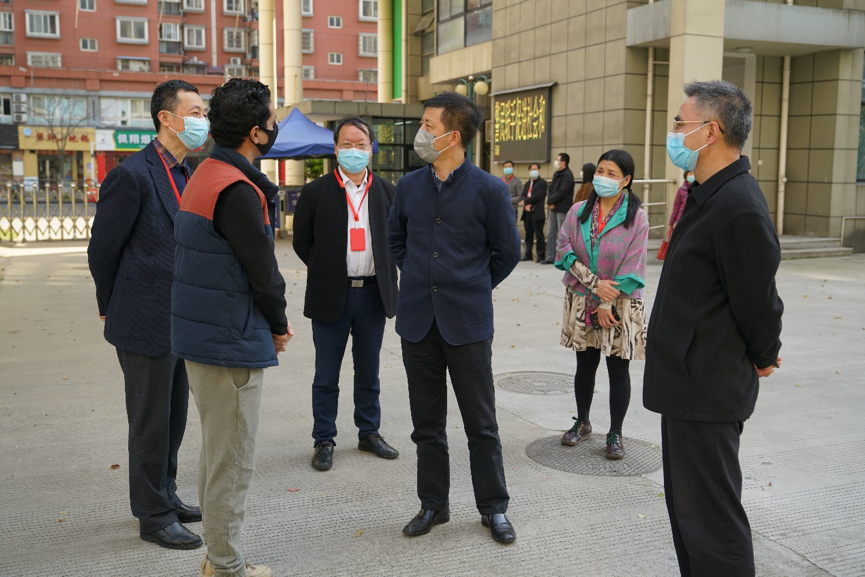correctlyWear: (665, 111, 720, 168), (163, 95, 208, 152), (412, 112, 455, 169), (335, 126, 371, 177), (591, 164, 631, 202), (258, 107, 281, 157), (526, 165, 542, 179), (501, 164, 514, 177), (684, 171, 695, 184), (553, 158, 563, 170), (579, 167, 589, 179)
